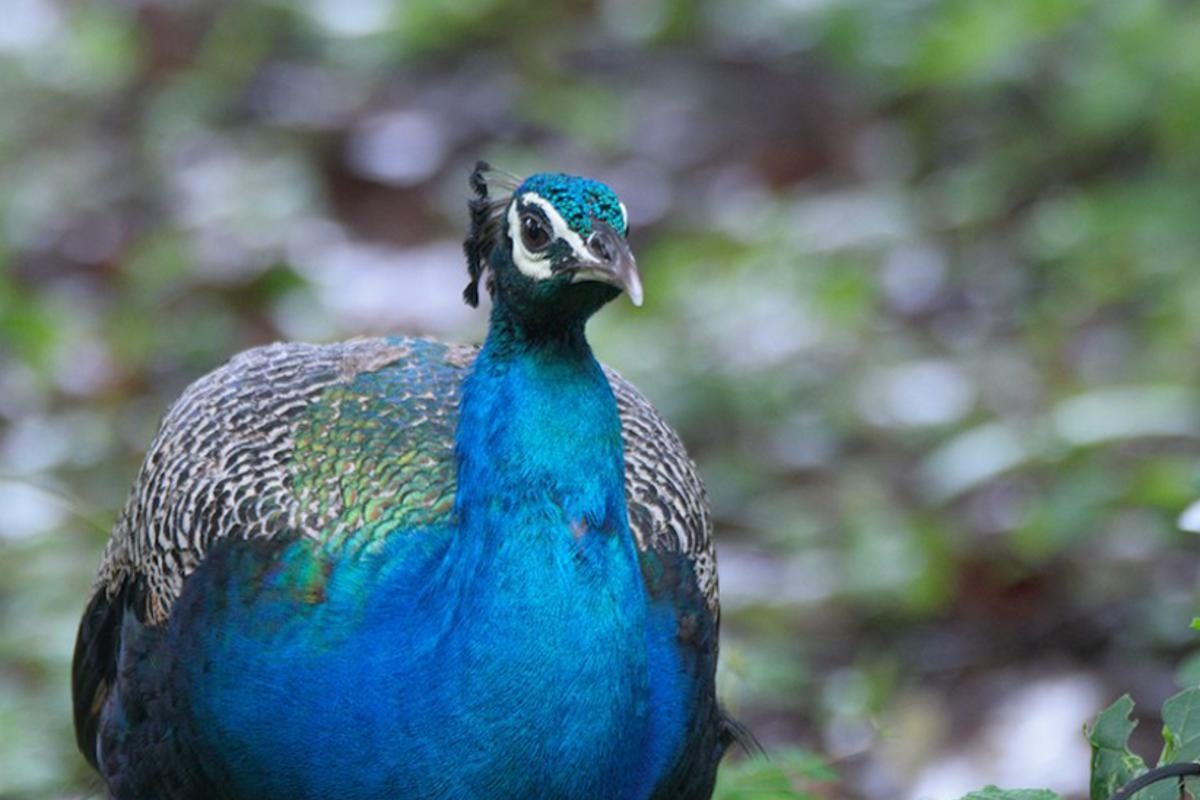peacock: (1, 154, 757, 800)
